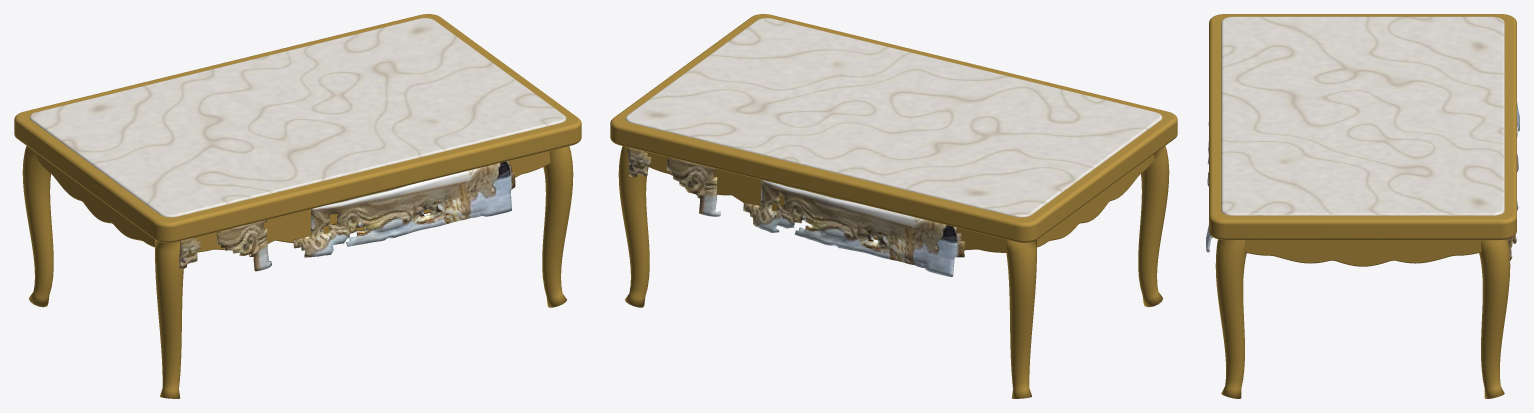
File: aventure-royal-sofa-set--centre.glb
3 renders of one model, left to right at view 1: azimuth 30°, elevation 25°; view 2: azimuth 150°, elevation 25°; view 3: azimuth 270°, elevation 25°, orthographic.
Visible parts, largest first — view 1: top, rim, apronrelief-1, leg1-1, leg-1-1, leg-11, apron-1, apronside-1; view 2: top, rim, apronrelief1, leg-11, leg-1-1, leg11, apron1, apronside-1; view 3: top, rim, apronside1, leg11, leg1-1.
Part boxes in pixels (x1,y1,x2,y2): top: (29, 18, 566, 217); rim: (14, 14, 581, 242); apronrelief-1: (179, 161, 515, 271); leg1-1: (542, 146, 573, 307); leg-1-1: (155, 240, 183, 398); leg-11: (22, 146, 53, 307); apron-1: (194, 151, 550, 252); apronside-1: (38, 154, 154, 247); top: (625, 18, 1162, 217); rim: (610, 14, 1177, 242); apronrelief1: (627, 147, 964, 276); leg-11: (1006, 240, 1036, 398); leg-1-1: (1138, 146, 1169, 307); leg11: (618, 146, 649, 307); apron1: (644, 151, 1008, 252); apronside-1: (1037, 154, 1153, 247); top: (1221, 16, 1504, 215); rim: (1209, 14, 1516, 240); apronside1: (1244, 240, 1481, 266); leg11: (1479, 239, 1510, 398); leg1-1: (1215, 239, 1246, 398).
Bounding box in the file's own units: 1.2 × 0.5081 × 0.764.
3 materials, 2 textured.
